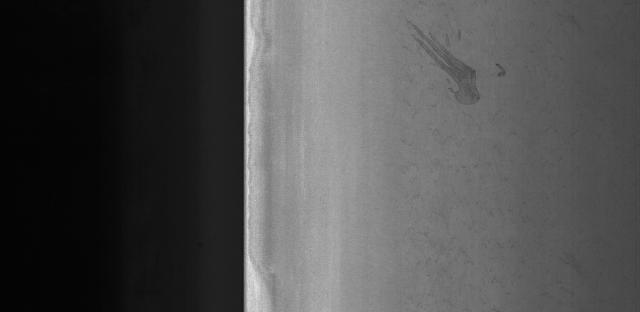silk_spot: (417, 126, 571, 299)
water_spot: (399, 13, 516, 117)
